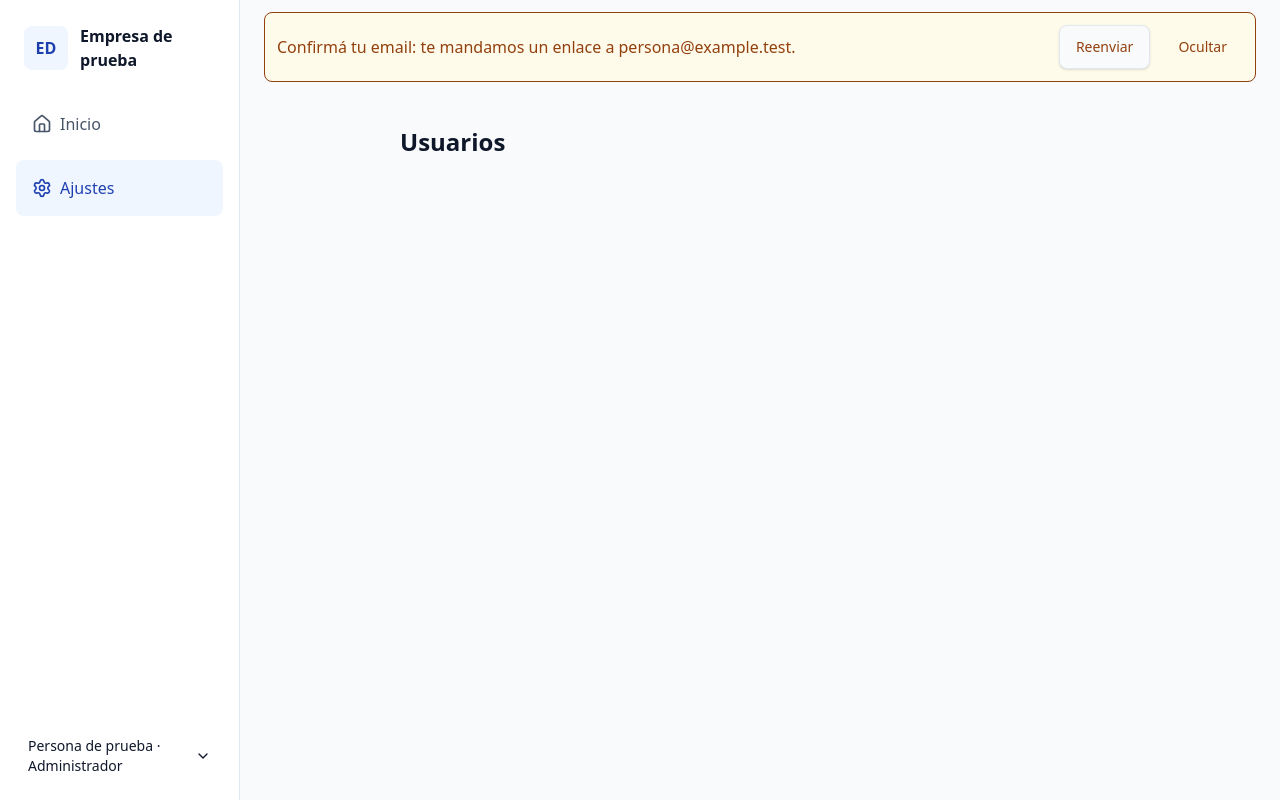
Test: EmailVerificationBanner › recognizes an email confirmed in another window and removes the notice with focus on the page heading
Expected: the text "Confirmá tu email:" is shown, [277,36,618,58]
Click the button "Reenviar" at (1105, 47), box [1059,25,1150,69]
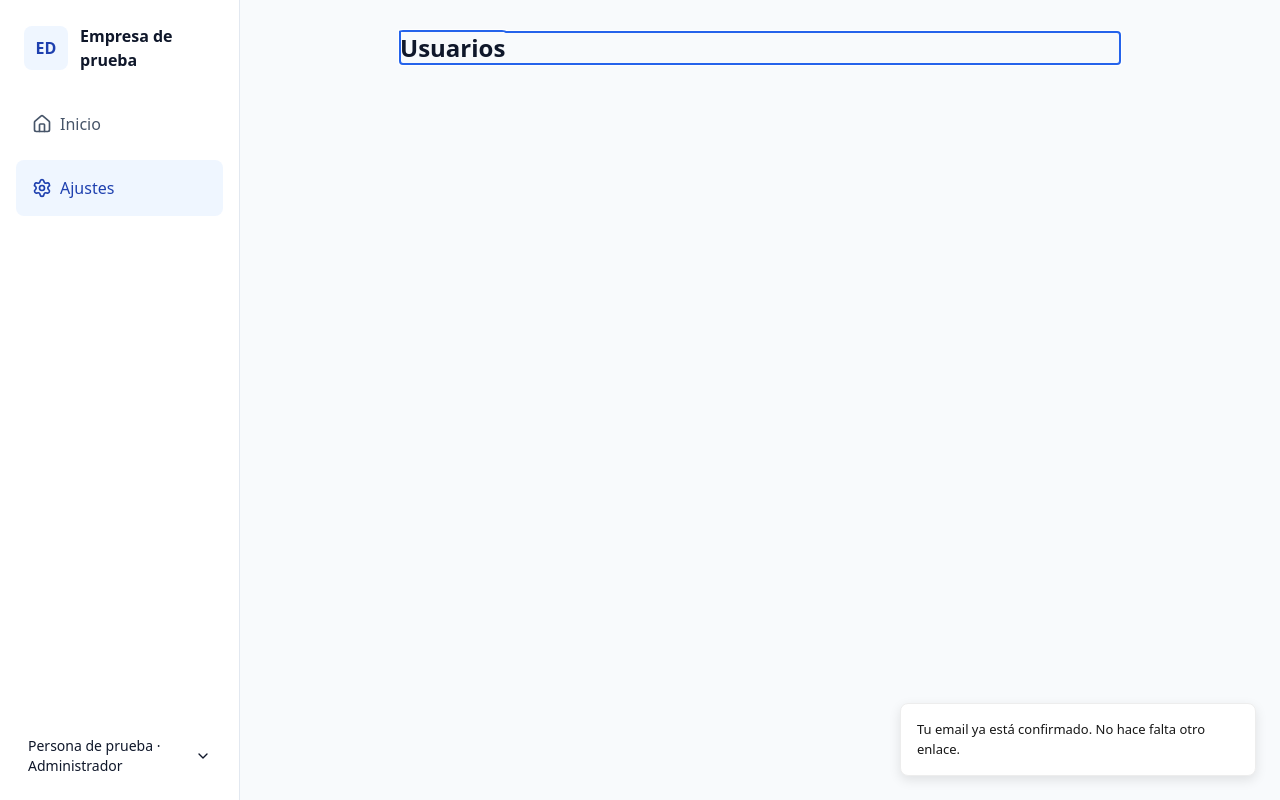
Result: the text "Confirmá tu email:" is gone
Result: the text "Tu email ya está confirmado. No hace falta otro enlace." is shown at [917,720,1239,759]
